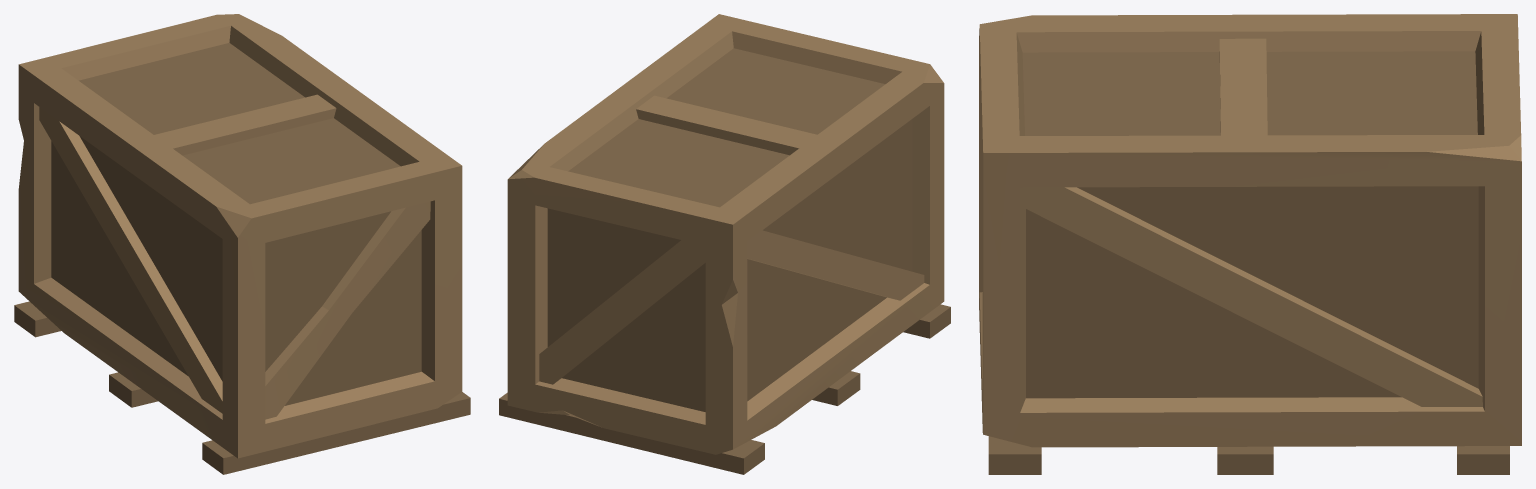
File: SM_Gen_Prop_Crate_02.obj
The picture shows the model from 3 angles, left to right: view 1: azimuth 30°, elevation 25°; view 2: azimuth 150°, elevation 25°; view 3: azimuth 270°, elevation 25°; orthographic projection. The views are drawn at different scales.
Parts seen in each view (by area): view 1: SM_Gen_Prop_Crate_02_0; view 2: SM_Gen_Prop_Crate_02_0; view 3: SM_Gen_Prop_Crate_02_0.
Boxes of the visible parts, box(x1,y1,x2,y2) form: SM_Gen_Prop_Crate_02_0: box(14, 14, 470, 474); SM_Gen_Prop_Crate_02_0: box(499, 14, 950, 474); SM_Gen_Prop_Crate_02_0: box(979, 14, 1521, 474).
Bounding box in the file's own units: 0.8955 × 0.8759 × 1.37.
1 material, 1 textured.
